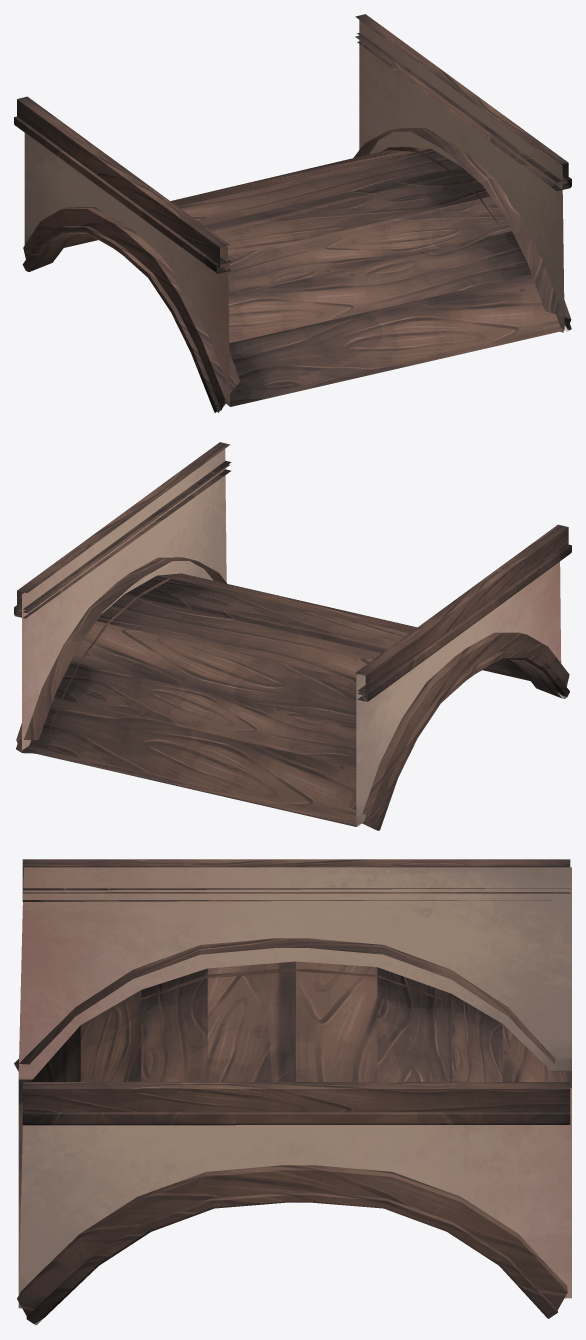
File: Wall_Arch_V1.fbx
The picture shows the model from 3 angles, top to bottom: view 1: azimuth 30°, elevation 25°; view 2: azimuth 150°, elevation 25°; view 3: azimuth 270°, elevation 25°; orthographic projection. The views are drawn at different scales.
Visible parts, largest first — view 1: Pillar_Full7; view 2: Pillar_Full7; view 3: Pillar_Full7.
Boxes of the visible parts, box(x1,y1,x2,y2) form: Pillar_Full7: box(14, 14, 571, 413); Pillar_Full7: box(14, 442, 571, 830); Pillar_Full7: box(14, 859, 571, 1325).
Size of the model in its own units: 0.0257 by 0.0119 by 0.0257.
